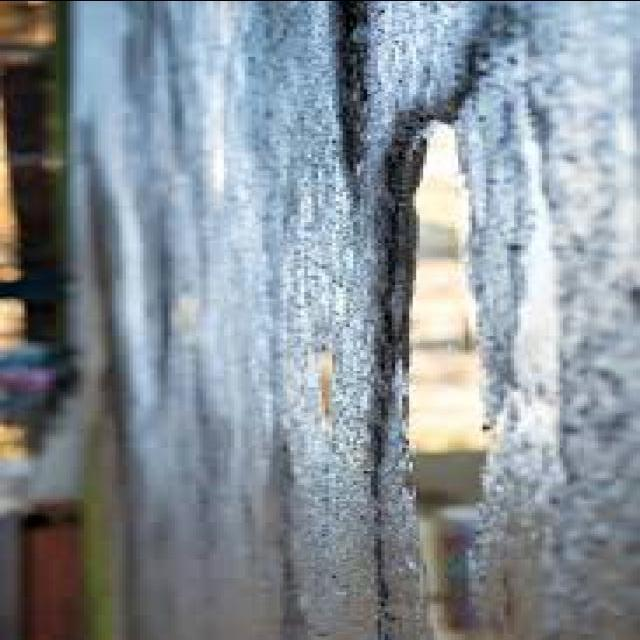pothole: (394, 120, 489, 621), (335, 0, 368, 176)
